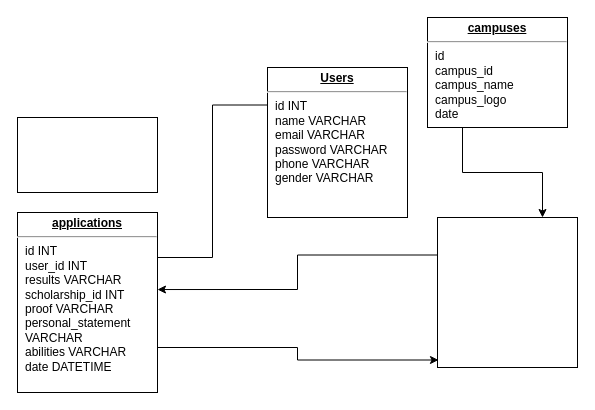
The diagram is 595 pixels wide and 410 high, and some of its shapes have lost their labels. Here are the shapes that lost their labels. From the top down, the box of each, then its label:
(16, 116, 158, 192): admin username VARCHAR password VARCHAR
(436, 216, 578, 368): Scholarships id campus_id course_type course slots date_added
